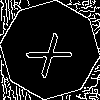X: (25, 25, 81, 79)
